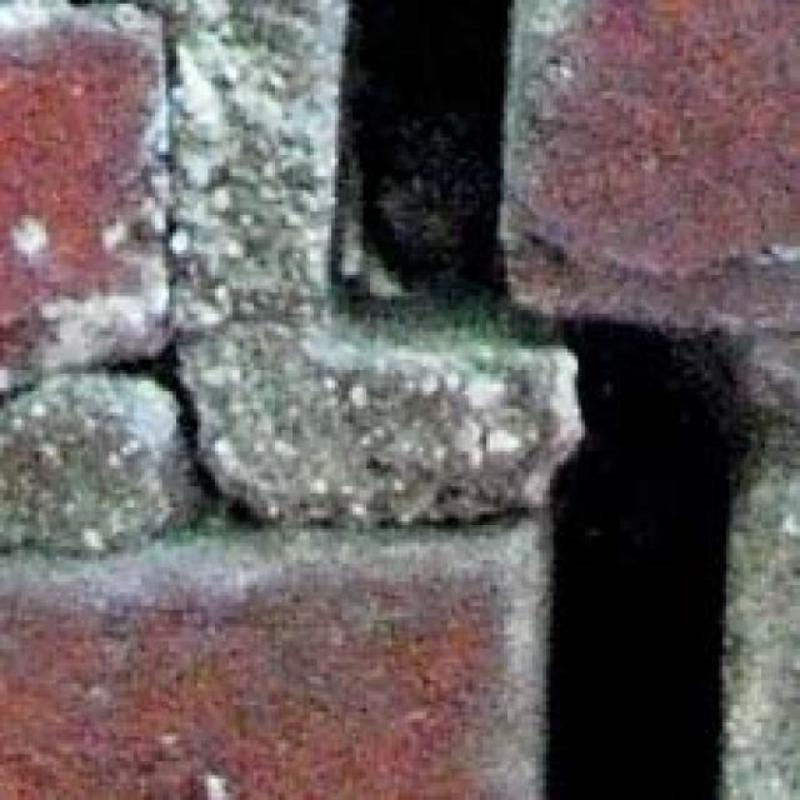crack: (336, 0, 738, 800), (109, 339, 261, 524)
